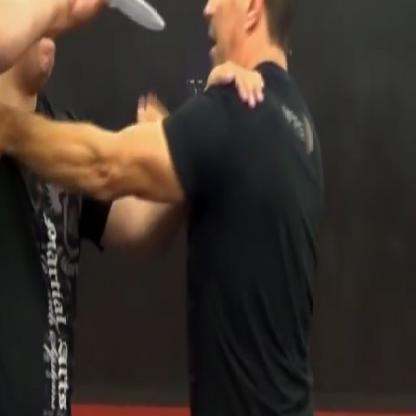knife: (65, 0, 170, 40)
